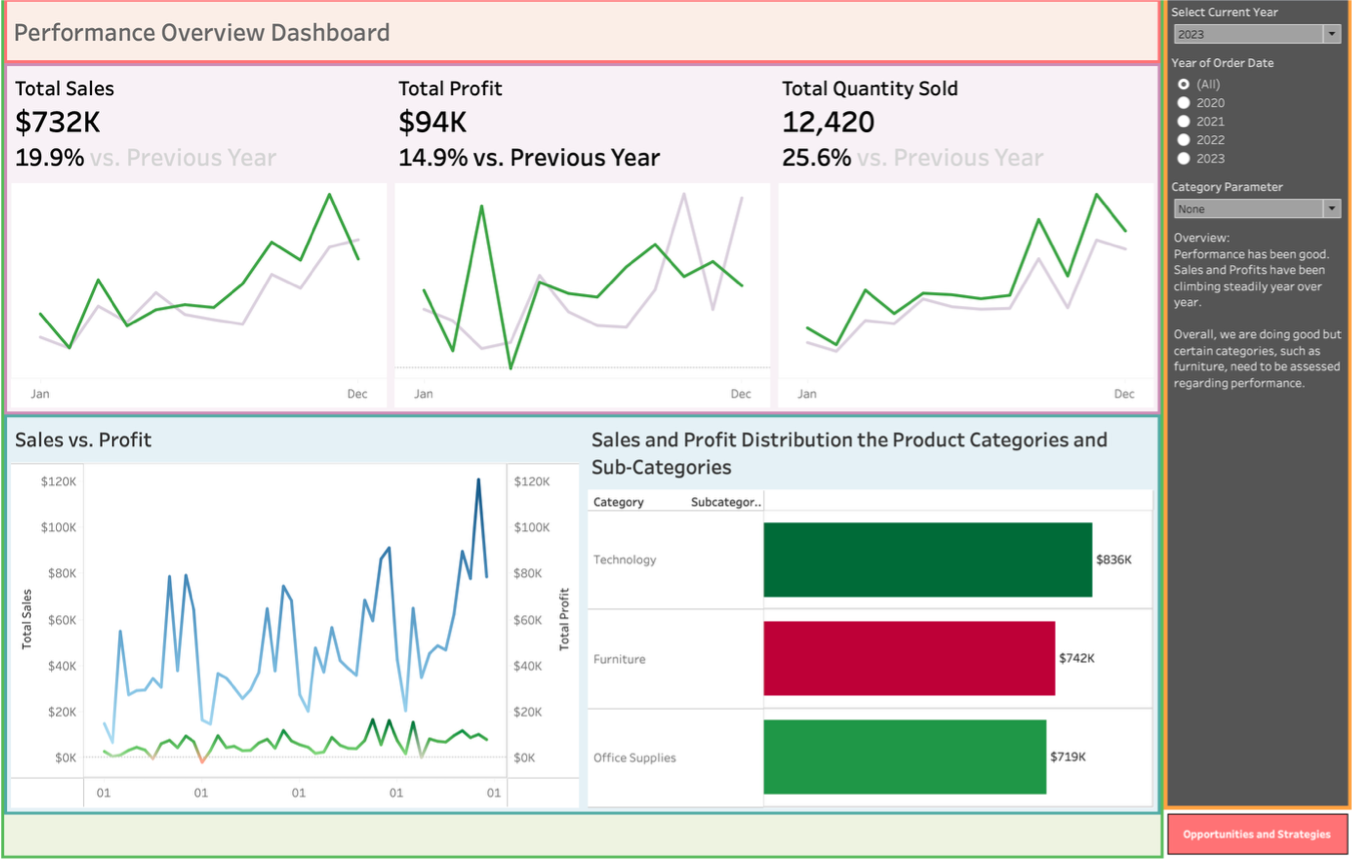

What the dashboard file says about the page in this screenshot:
{"tool":"tableau","page":{"name":"Performance Overview","canvas":[1400,900],"ordinal":2},"visuals":[{"type":"parameter","param":"[Parameters].[Year Parameter]","box":[1203,12,185,52]},{"type":"text","box":[14,14,1179,60]},{"type":"filter","title":"Dual Chart","param":"[federated.0j3m36s1u8mgw21ctp04d02ugqq1].[yr:Order Date:ok]","box":[1203,64,185,127]},{"type":"worksheet","title":"Sales - KPI","mark":"Automatic","cols":["Order Date"],"box":[14,80,393,354]},{"type":"worksheet","title":"Profit - KPI","mark":"Automatic","cols":["Order Date"],"box":[407,80,393,354]},{"type":"worksheet","title":"Quantity Sold - KPI","mark":"Automatic","cols":["Order Date"],"box":[800,80,393,354]},{"type":"parameter","param":"[Parameters].[Category Parameter]","box":[1203,191,185,52]},{"type":"text","box":[1203,243,185,178]},{"type":"worksheet","title":"Dual Chart","mark":"Automatic","rows":["Calculation_2816368255969181696","Calculation_2816368256023539713"],"cols":["Order Date"],"box":[14,440,591,404]},{"type":"worksheet","title":"Drill Down Chart","mark":"Automatic","rows":["Category","Calculation_2816368256293793796"],"cols":["Calculation_2816368255969181696"],"box":[605,440,588,404]},{"type":"dashboard-object","box":[1199,842,193,50]}]}

Visuals, with their boxes in screenshot pixels (x1, y1, x2, y2), scaled from the page's 1400x900 canvas onto the 1356x861 screenshot:
parameter: [1165, 11, 1344, 61]
text: [14, 13, 1156, 71]
"Dual Chart" filter: [1165, 61, 1344, 183]
"Sales - KPI" worksheet: [14, 77, 394, 415]
"Profit - KPI" worksheet: [394, 77, 775, 415]
"Quantity Sold - KPI" worksheet: [775, 77, 1156, 415]
parameter: [1165, 183, 1344, 232]
text: [1165, 232, 1344, 403]
"Dual Chart" worksheet: [14, 421, 586, 807]
"Drill Down Chart" worksheet: [586, 421, 1156, 807]
dashboard-object: [1161, 806, 1348, 853]
